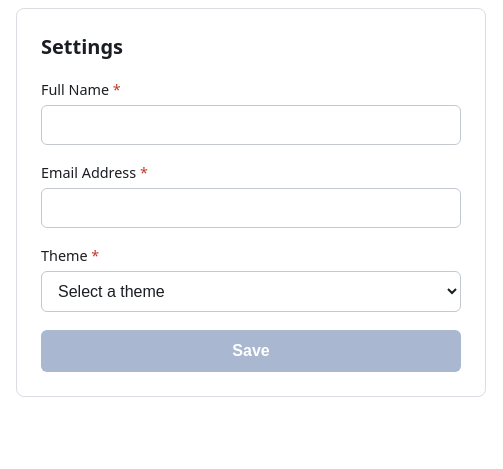
Test: SettingsForm › shows a success message after a valid save
Type "Suff Sufiyan" into the field labelled "Full Name *" at (251, 125), box [41, 105, 461, 145]
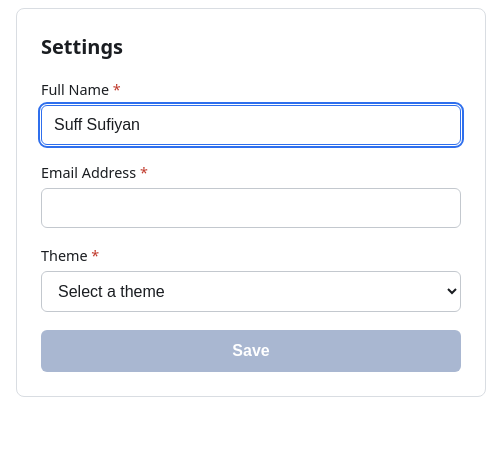
Type "suff@example.com" into the field labelled "Email Address *" at (251, 208), box [41, 188, 461, 228]
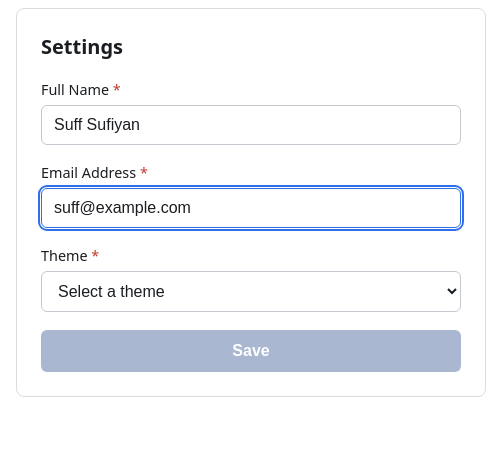
Select "Light" in the dropdown labelled "Theme *" at (251, 292), box [41, 271, 461, 312]
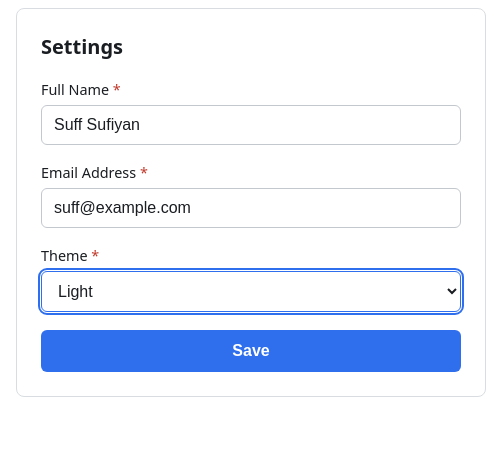
Now the button "Save" is enabled
Click the button "Save" at (251, 351), box [41, 330, 461, 372]
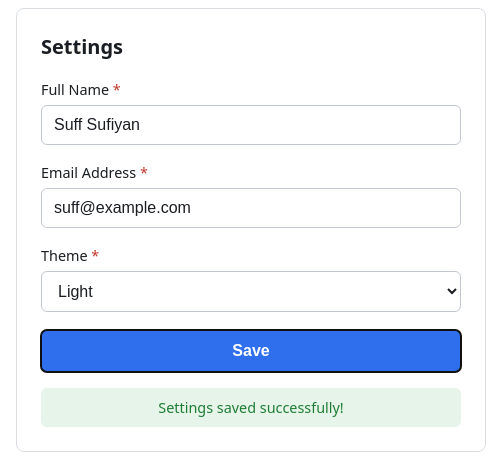
Now the text "Settings saved successfully!" is shown, box [41, 388, 461, 427]
